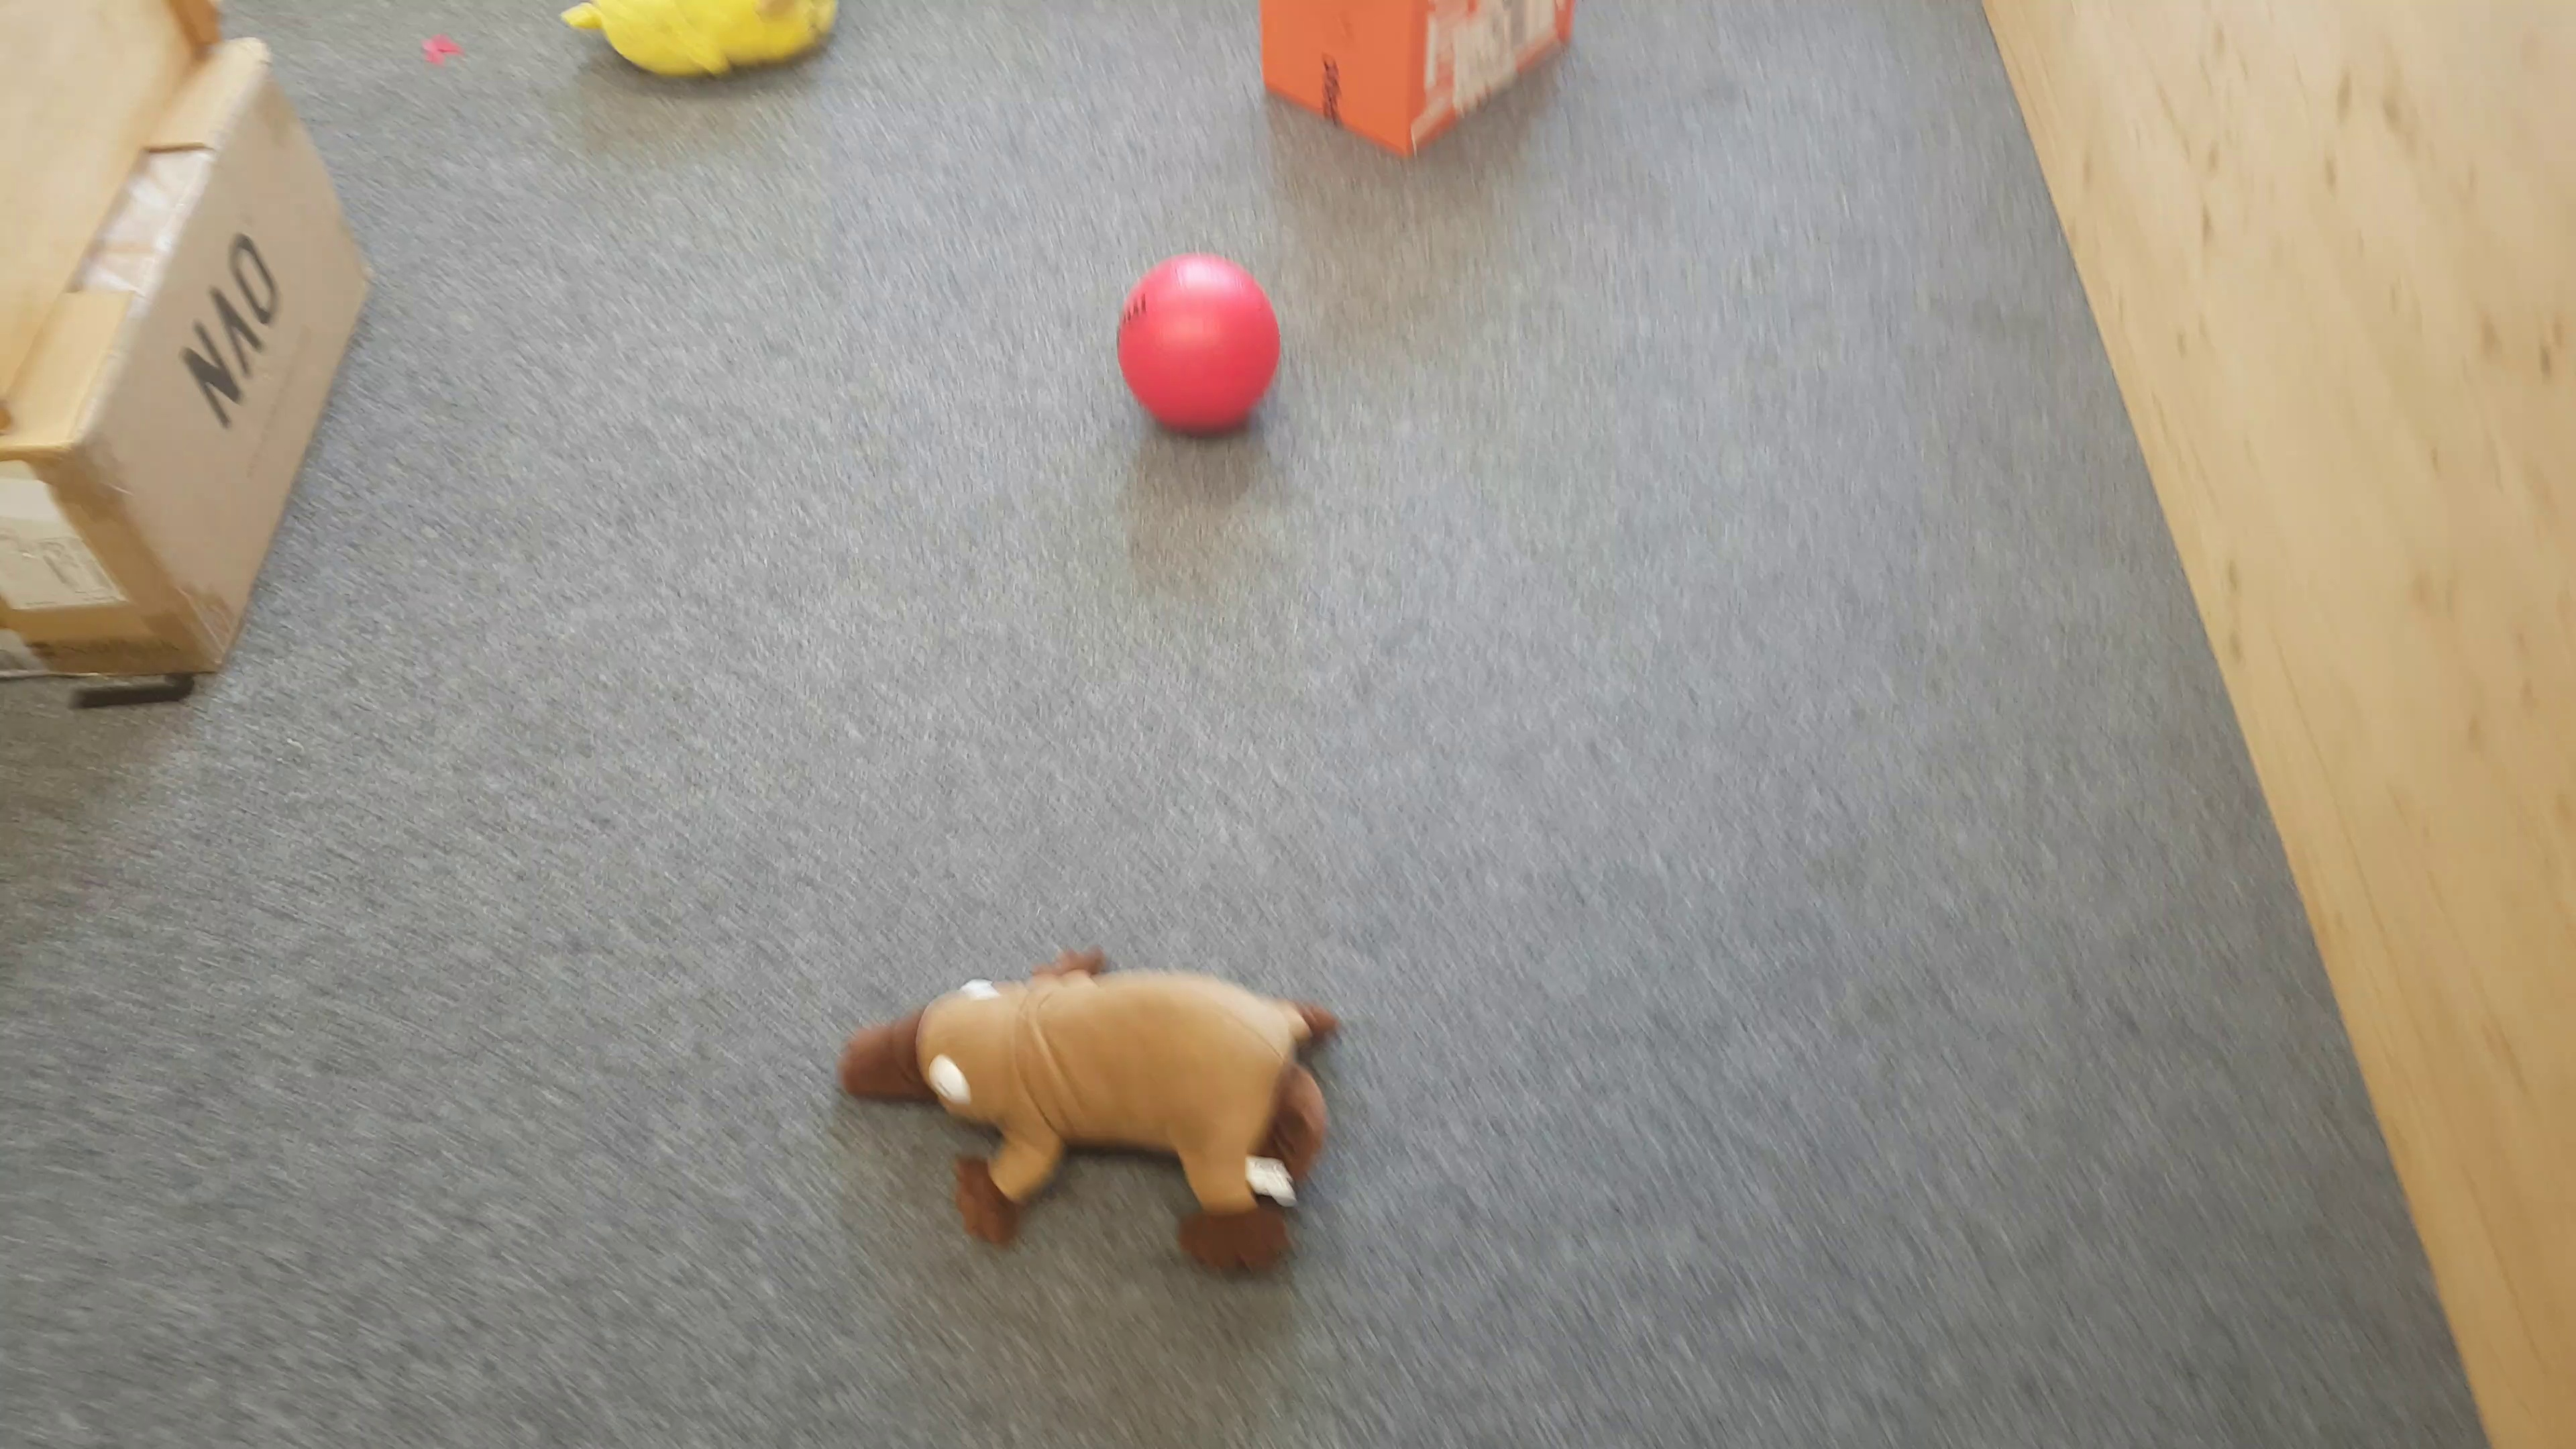grasp: (840, 952, 1343, 1277), (568, 0, 835, 85)
kick: (1118, 251, 1277, 435)
push: (1263, 2, 1576, 156)
